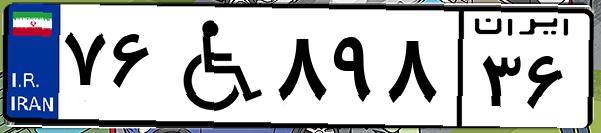3: (475, 38, 525, 113)
6: (525, 38, 570, 115), (110, 28, 158, 98)
7: (57, 26, 110, 100)
8: (270, 28, 330, 110), (385, 28, 445, 110)
9: (330, 28, 385, 110)
ژ (معلولین و جانبازان): (158, 12, 270, 120)
